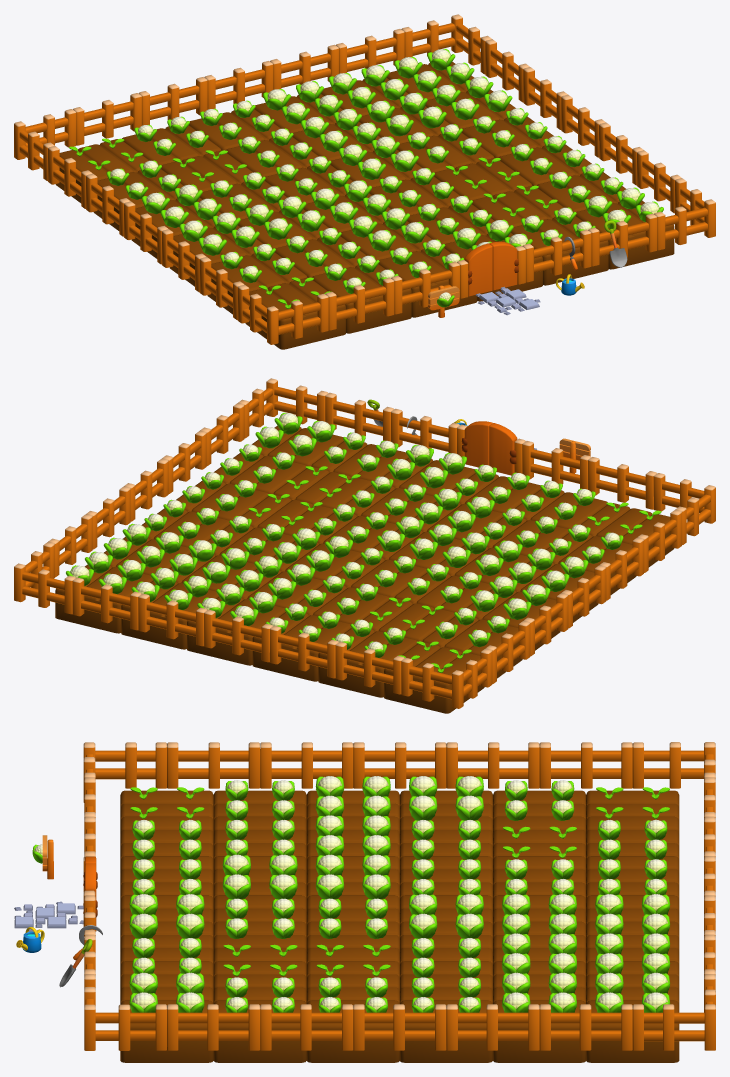
File: Cauliflower Field.glb
The picture shows the model from 3 angles, top to bottom: view 1: azimuth 30°, elevation 25°; view 2: azimuth 150°, elevation 25°; view 3: azimuth 270°, elevation 25°; orthographic projection. The views are drawn at different scales.
Visible parts, largest first — view 1: Farm_Crop_Cauliflower_Step_039; view 2: Farm_Crop_Cauliflower_Step_039; view 3: Farm_Crop_Cauliflower_Step_039.
Boxes of the visible parts, bbox=[...] form: Farm_Crop_Cauliflower_Step_039: bbox=[14, 14, 715, 349]; Farm_Crop_Cauliflower_Step_039: bbox=[14, 378, 715, 713]; Farm_Crop_Cauliflower_Step_039: bbox=[14, 742, 715, 1062].
Size of the model in its own units: 13.58 by 1.94 by 15.08.
2 materials, 2 textured.
